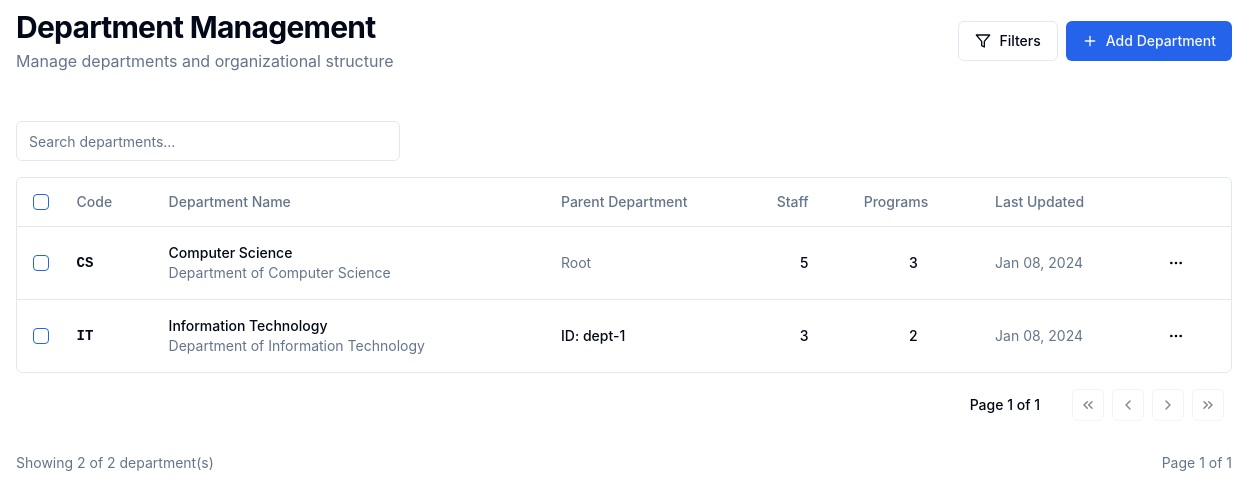
Test: DepartmentManagementPage › CRUD Operations › should open edit dialog when Edit button is clicked
The width and height of the screenshot is (1249, 488).
Expected: the text "Computer Science" is shown, [169,244,292,260]
Click the button named "open menu" in the row of "CS": (1176, 262) [1160,246,1192,278]
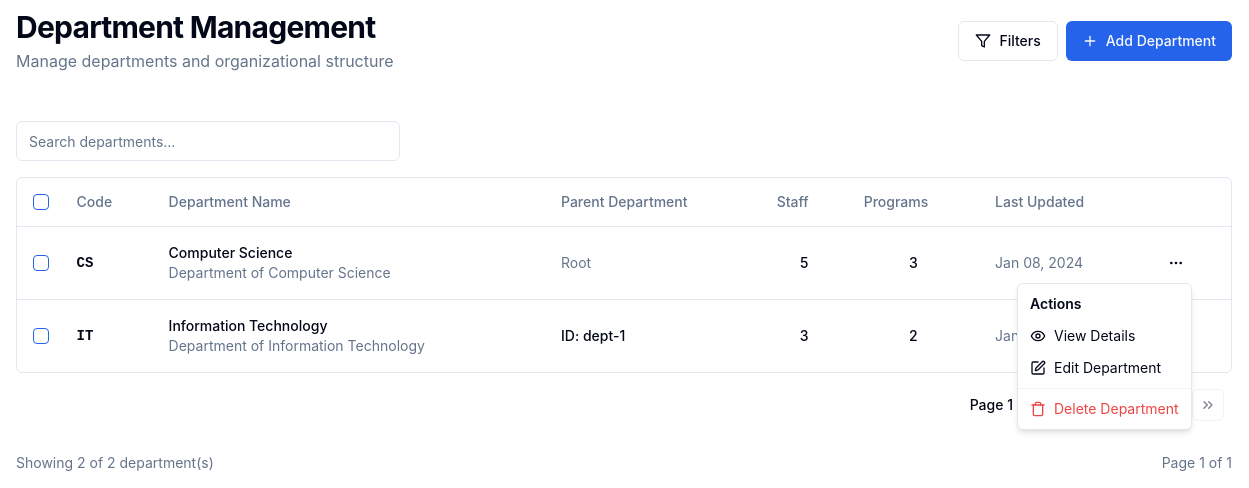
Result: the menu item "Edit Department" is shown at [1030,359,1161,376]
